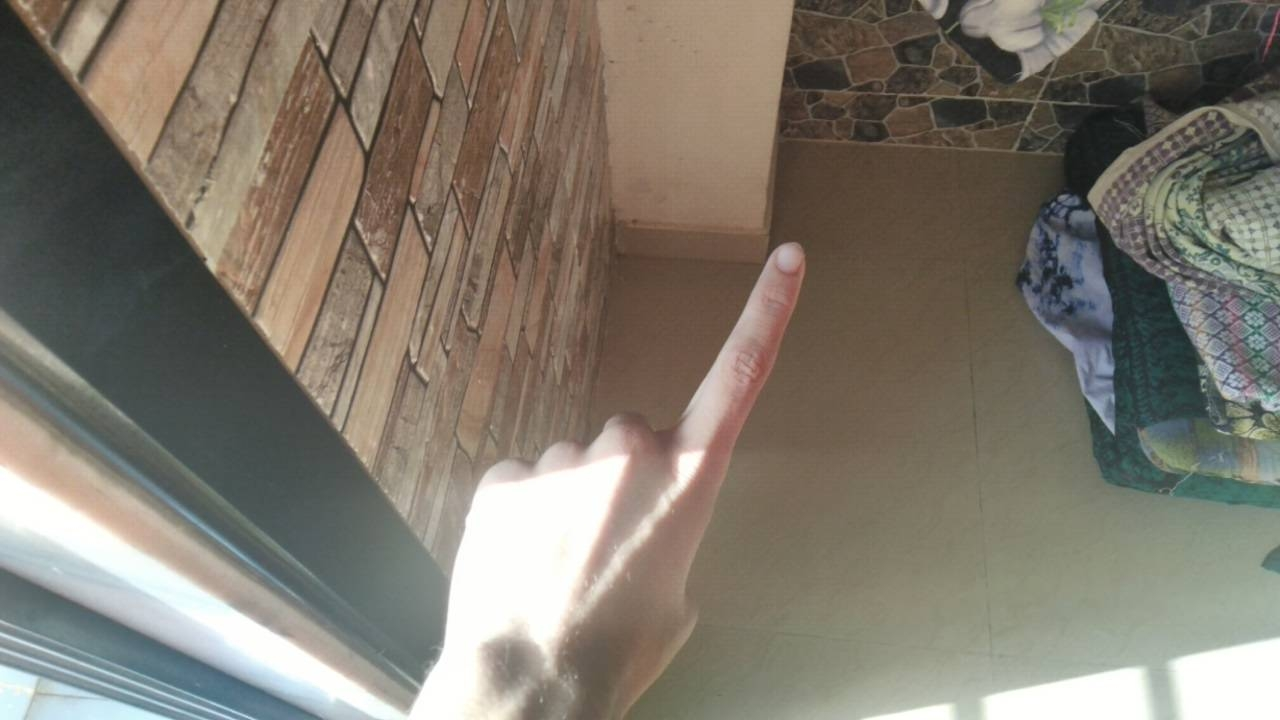fingertip: (762, 230, 818, 286)
